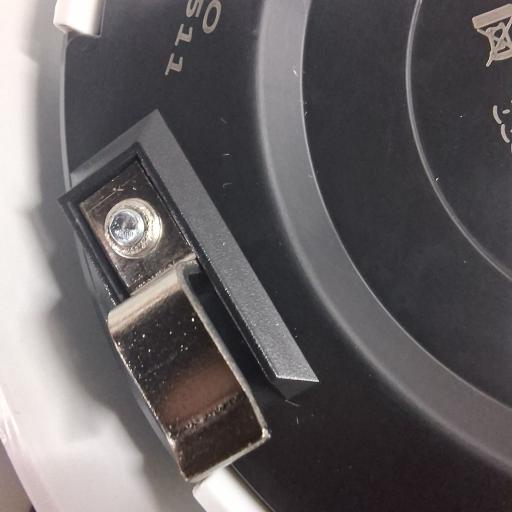yaysiz: (64, 156, 272, 481)
